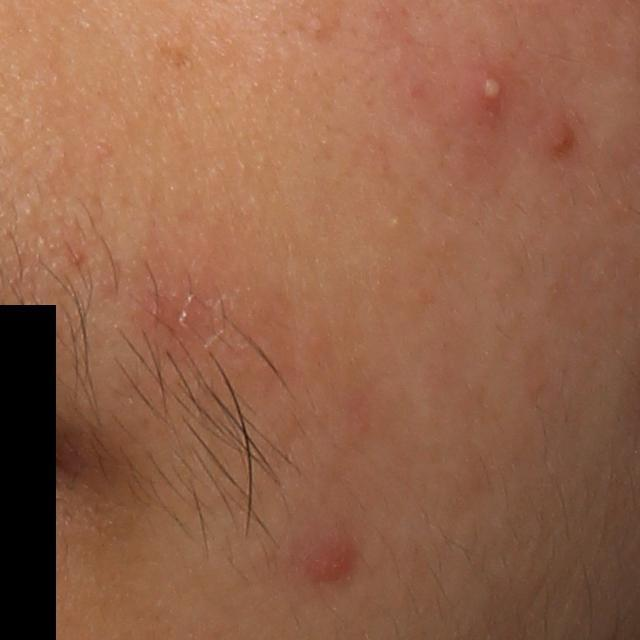comedo: (383, 210, 407, 231)
papule: (292, 538, 359, 591), (541, 120, 576, 155)
pustule: (463, 64, 514, 120)
